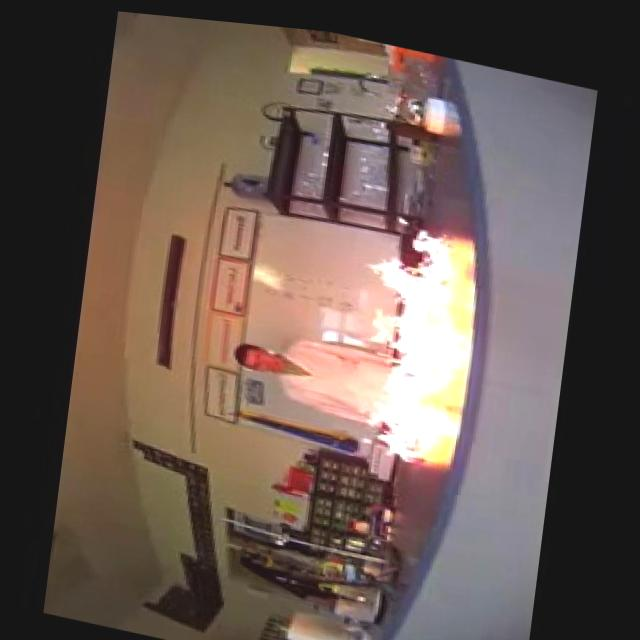helmet: (342, 198, 474, 469)
